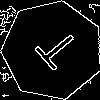T: (27, 25, 82, 78)
